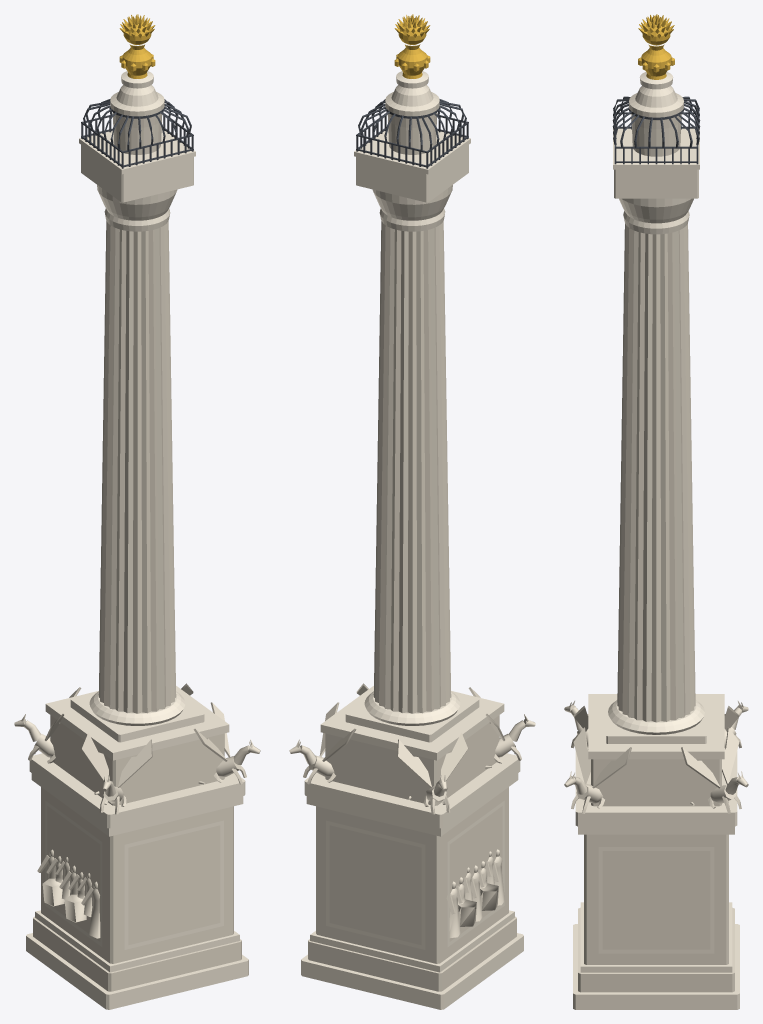
File: london-the-monument.detail.glb
3 renders of one model, left to right at view 1: azimuth 30°, elevation 25°; view 2: azimuth 150°, elevation 25°; view 3: azimuth 270°, elevation 25°, orthographic.
Visible parts, largest first — view 1: The Monument; view 2: The Monument; view 3: The Monument.
Boxes of the visible parts, <box> form: The Monument: <box>14,14,260,1009</box>; The Monument: <box>289,14,535,1009</box>; The Monument: <box>564,14,748,1009</box>.
Bounding box in the file's own units: 10.82 × 62.03 × 10.82.
